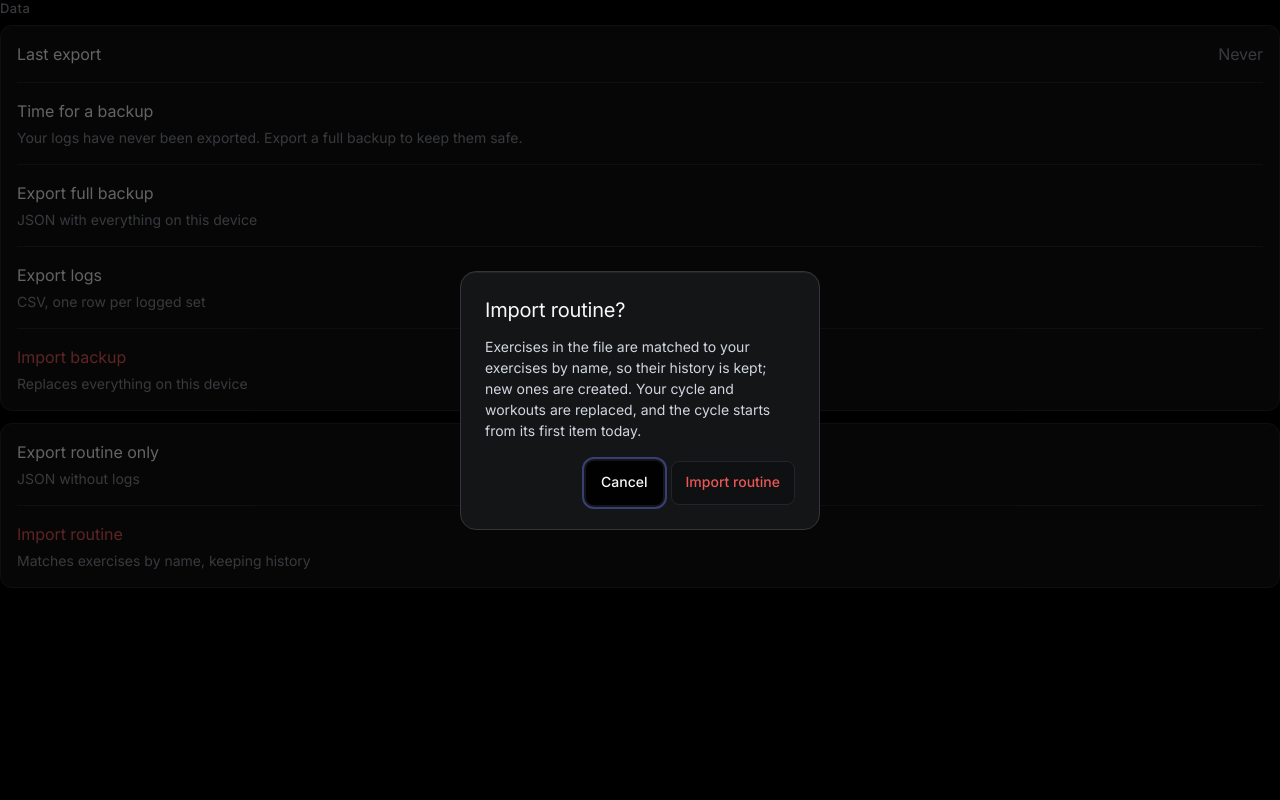
DataSection: import routine › confirms, keeps history, replaces cycle and workouts, and reports the counts
Earlier steps of the test are not shown.
Check: the dialog "Import routine?" shows "matched to your exercises by name", box [485, 338, 770, 438]
Check: the dialog "Import routine?" shows "history is kept", box [485, 338, 770, 438]
Click the button "Import routine". click: click(733, 482)
box: [670, 460, 795, 504]
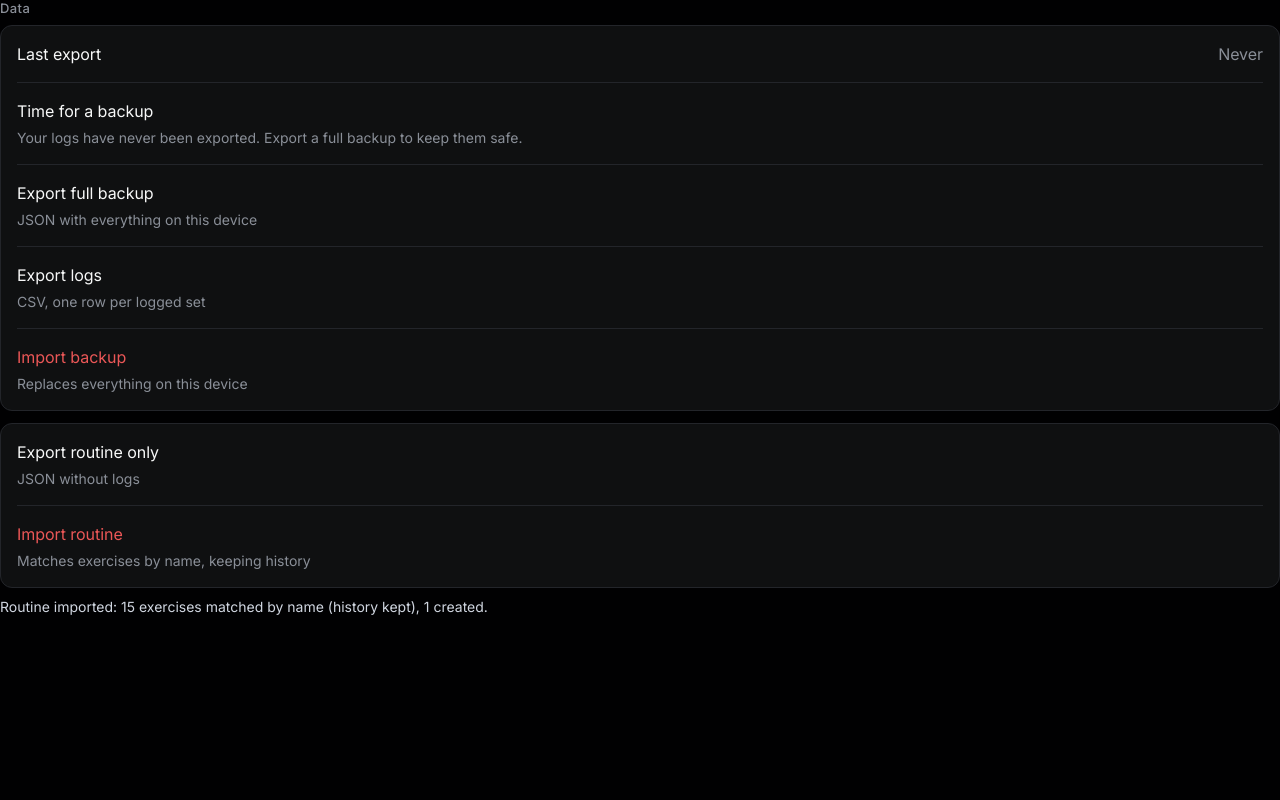
Check: the text "Routine imported: 15 exercises matched by name (history kept), 1 created." is shown, box [0, 598, 488, 615]
